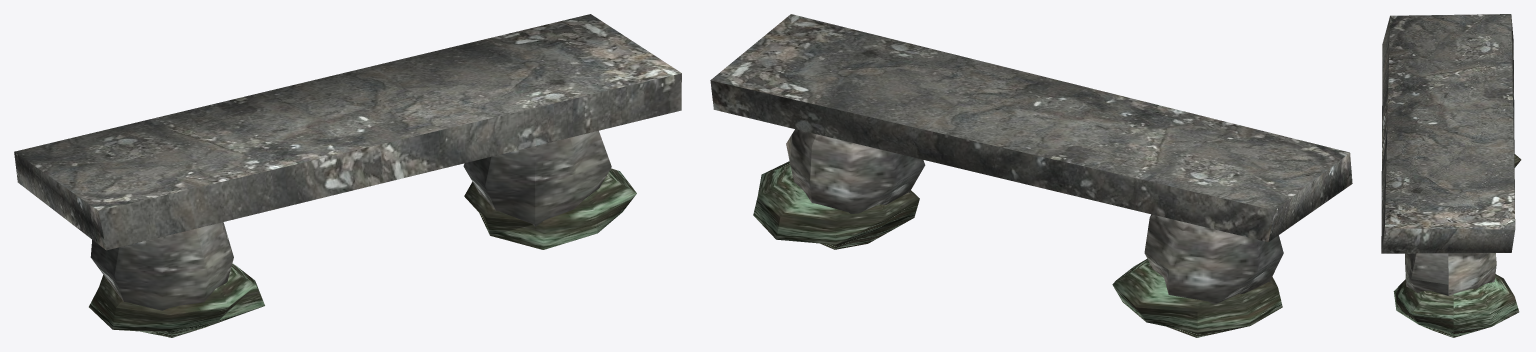
File: cw_slab_bench.glb
3 renders of one model, left to right at view 1: azimuth 30°, elevation 25°; view 2: azimuth 150°, elevation 25°; view 3: azimuth 270°, elevation 25°, orthographic. The views are drawn at different scales.
Visible parts, largest first — view 1: cw_slab_bench; view 2: cw_slab_bench; view 3: cw_slab_bench.
Boxes of the visible parts, x1,y1,x2,y2 form: cw_slab_bench: (14,14,681,337); cw_slab_bench: (710,14,1352,337); cw_slab_bench: (1381,14,1521,337).
Bounding box in the file's own units: 1.94 × 0.5589 × 0.5394.
Materials: 1 (1 with a texture image).
